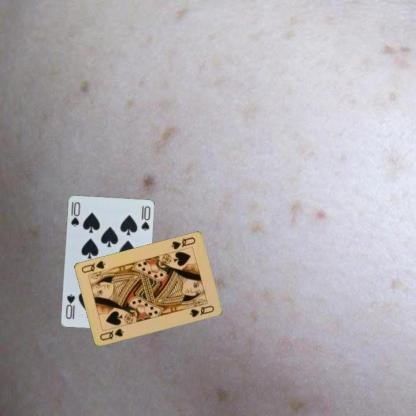10s: (68, 198, 81, 228)
Qs: (97, 326, 125, 342), (168, 234, 196, 250)
